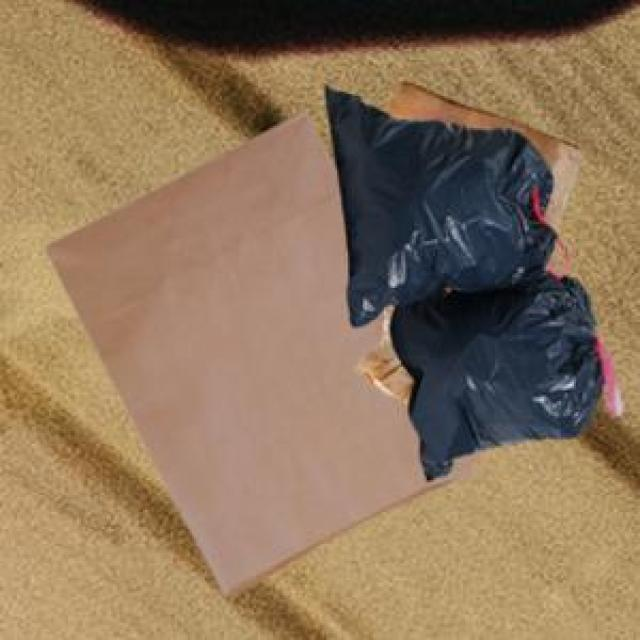miscellaneous trash: (322, 81, 619, 476)
paper: (41, 109, 478, 591), (350, 75, 577, 399)
